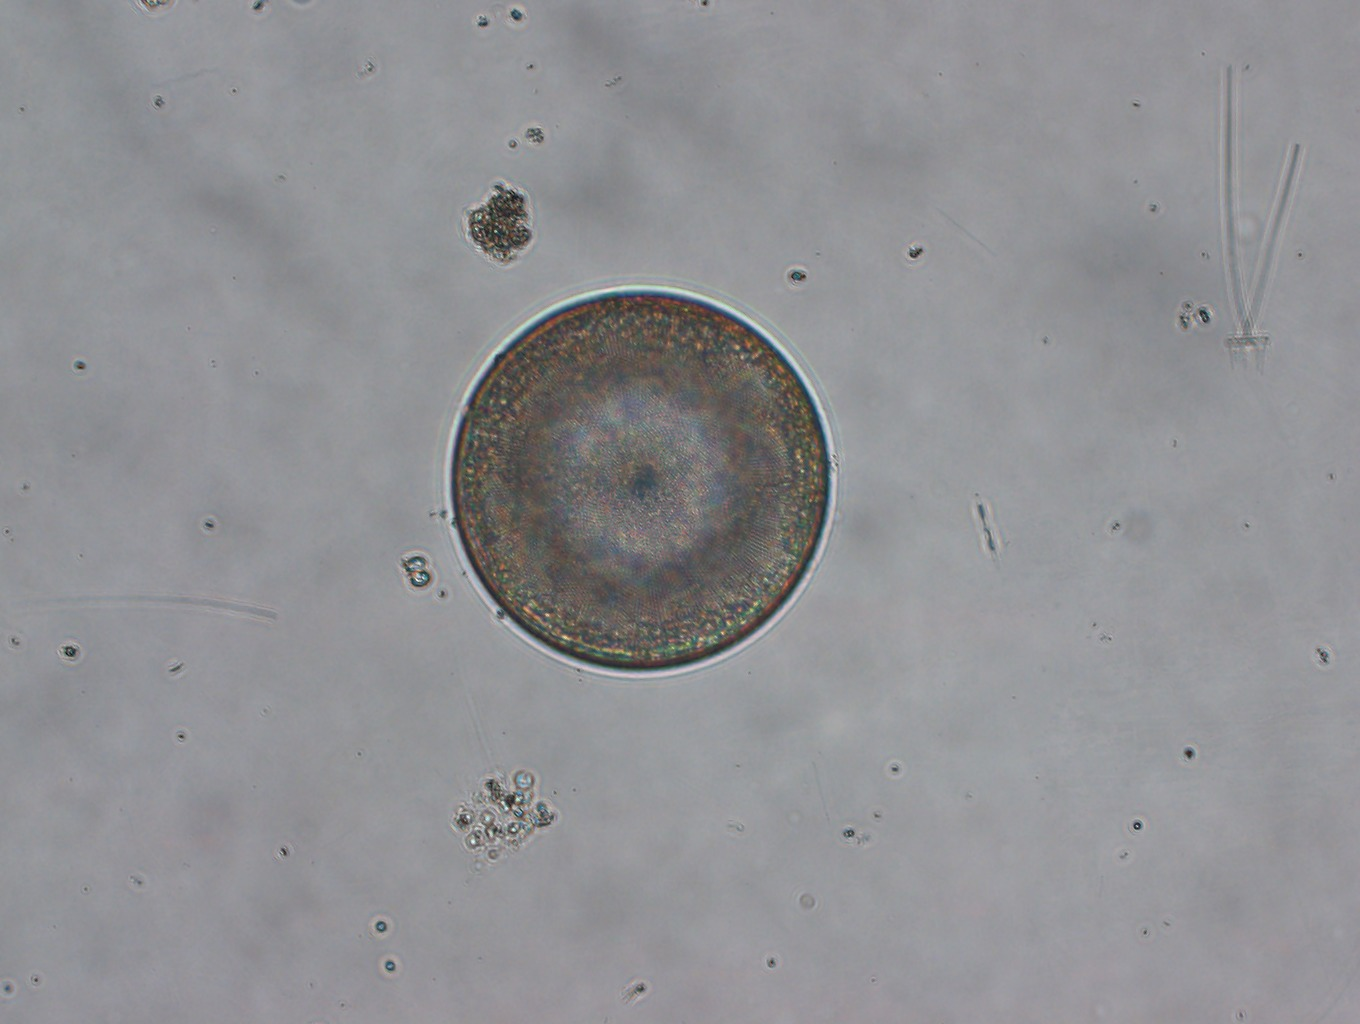coscinodiscus: (445, 286, 838, 680)
